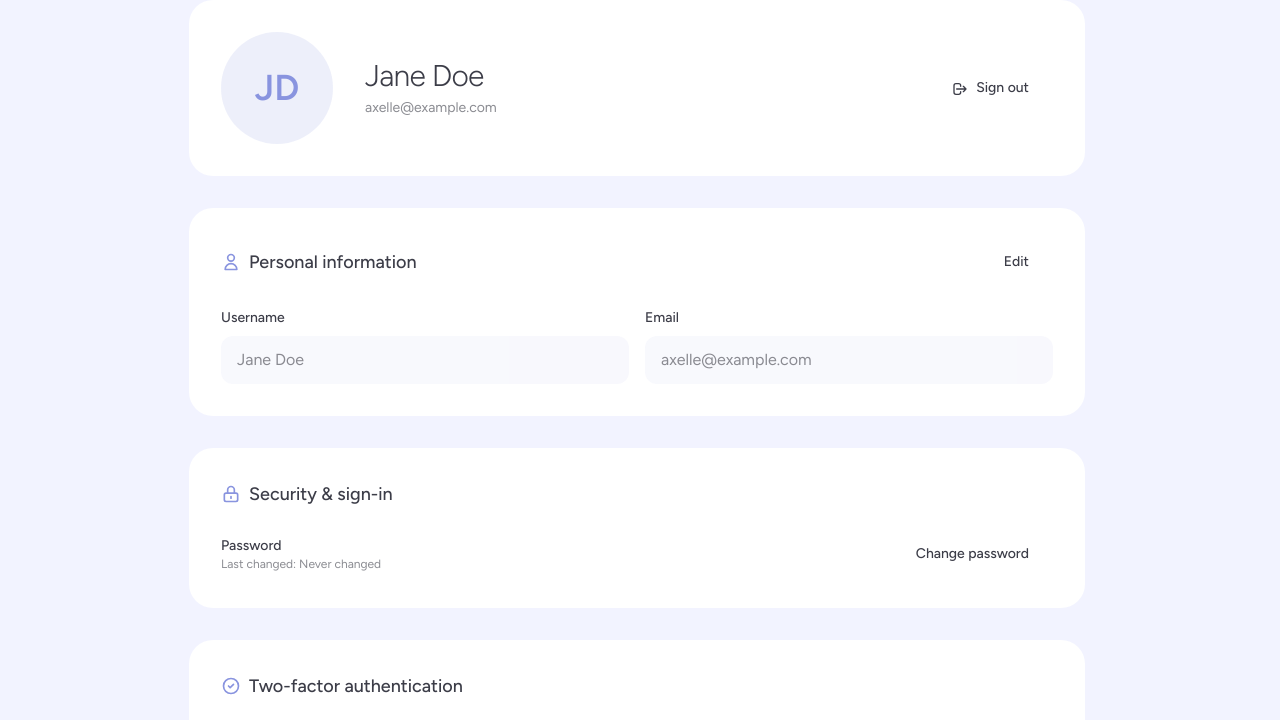
Profile › cancels edits, restores the original value and saves nothing
The width and height of the screenshot is (1280, 720).
Click the button "Edit" at (1016, 262), box [980,240,1053,284]
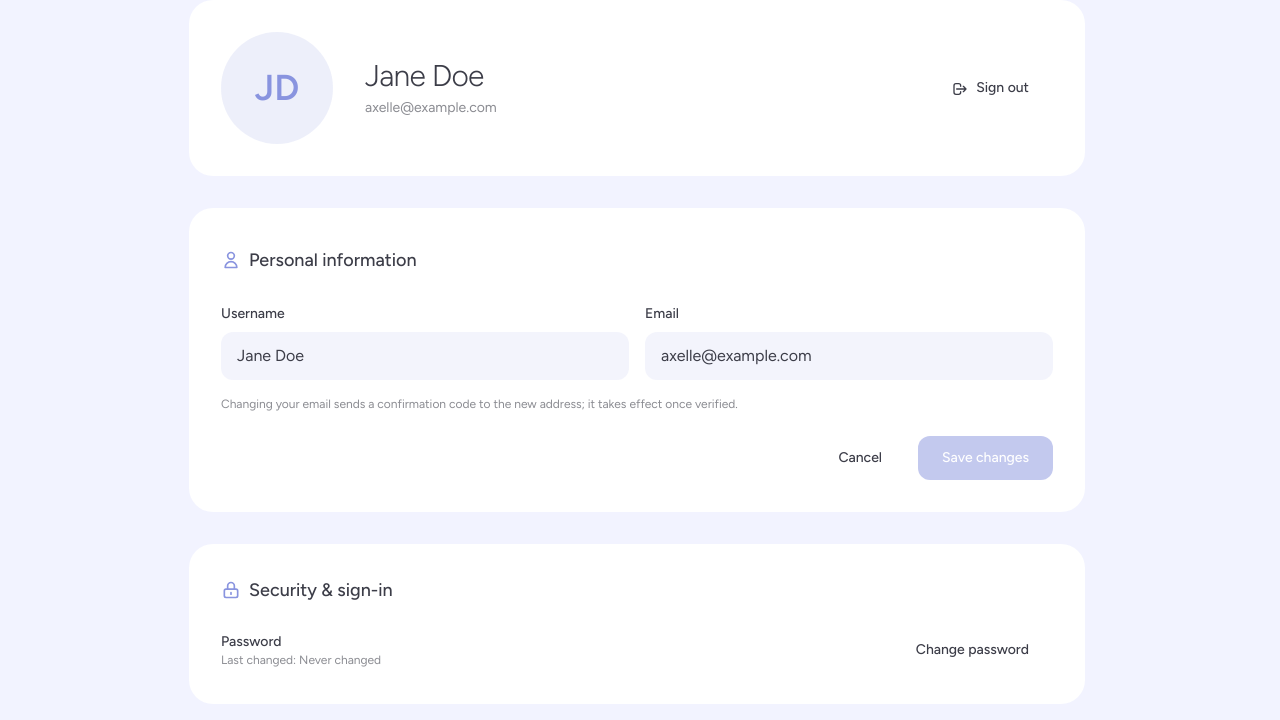
Replace the text in the field showing "Jane Doe" with "Changed Name" at (425, 356), box [221,332,629,380]
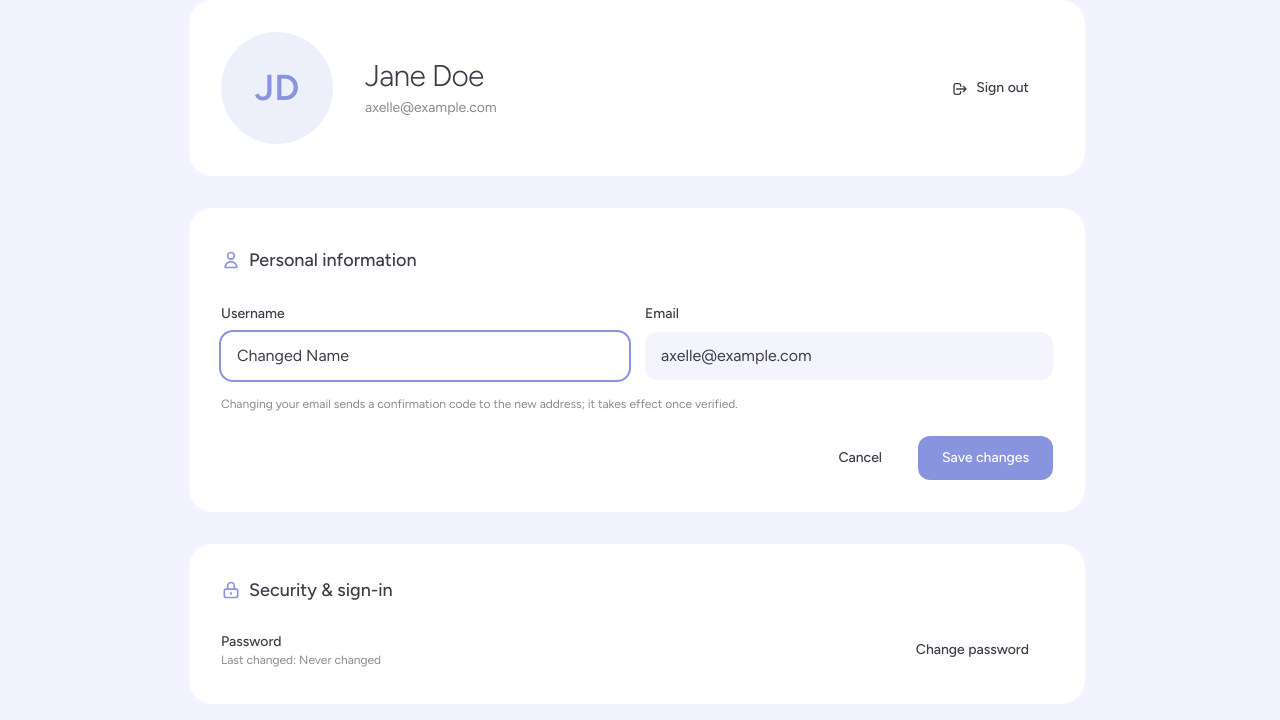
Click the button "Cancel" at (860, 458), box [814,436,906,480]
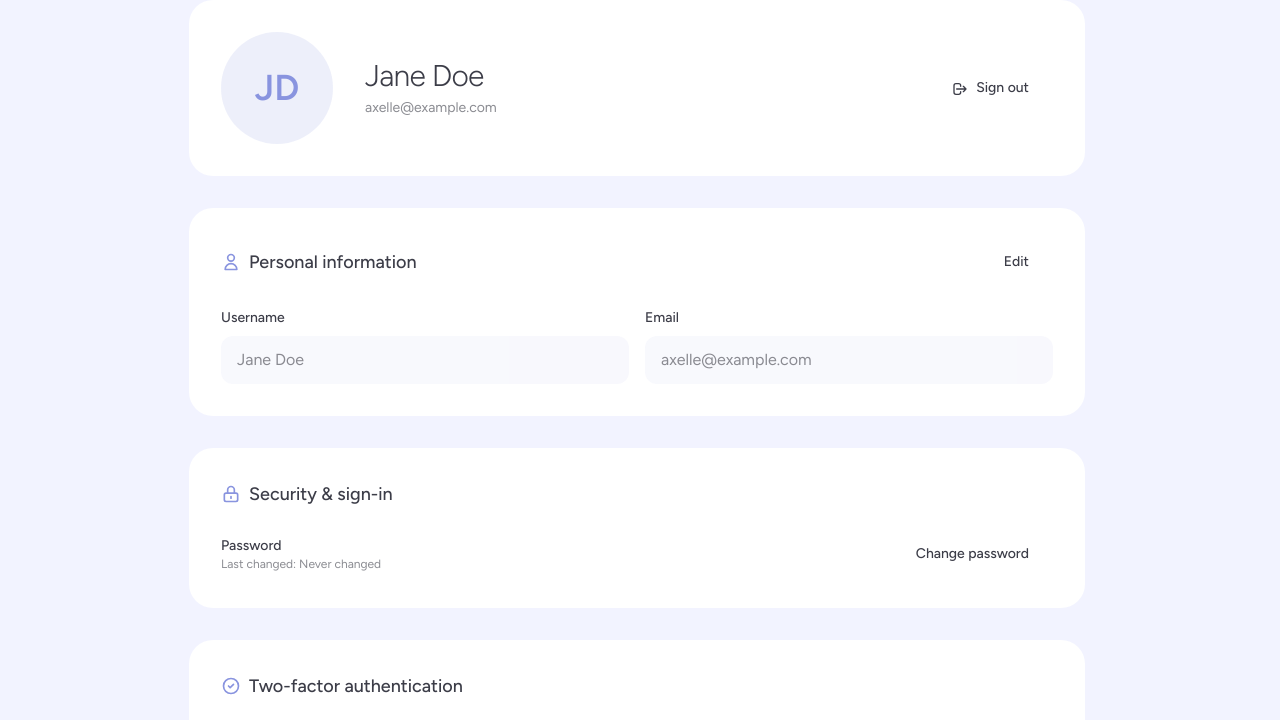
Check: the field showing "Jane Doe" is disabled, box [221,336,629,384]
